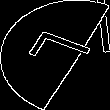L_SE: (15, 30, 95, 80)
